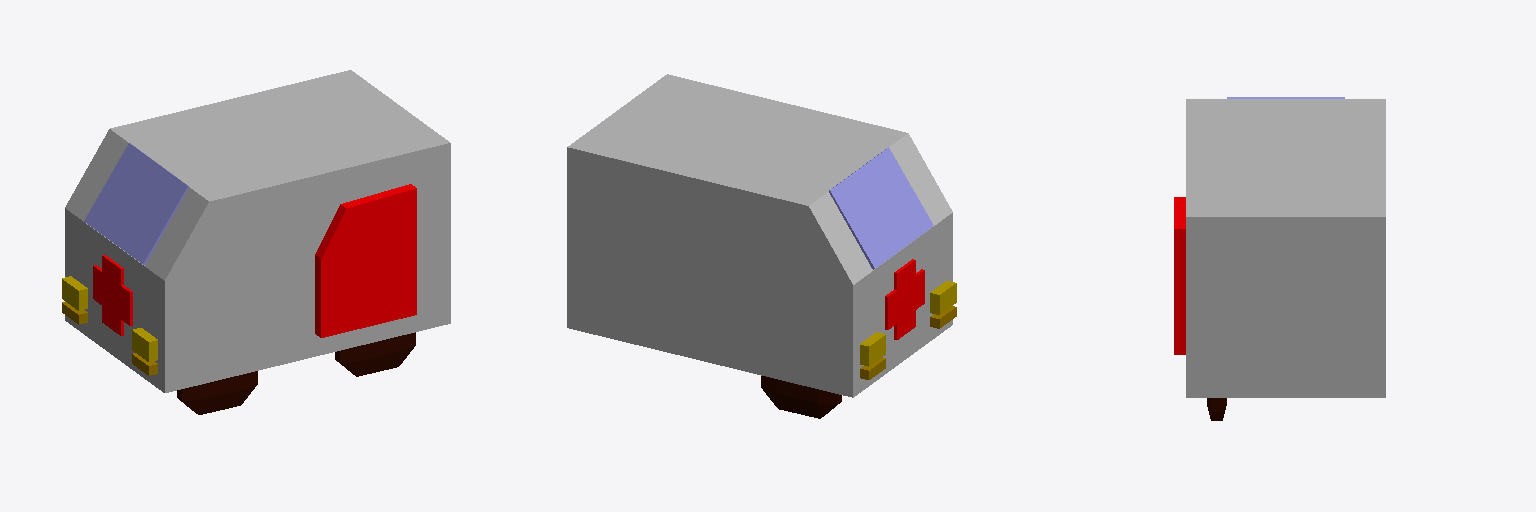
The model's file is Ambulance.obj.
3 renders of one model, left to right at view 1: azimuth 30°, elevation 25°; view 2: azimuth 150°, elevation 25°; view 3: azimuth 270°, elevation 25°, orthographic.
Visible parts, largest first — view 1: Cube_Cube.001, RightDoor_Cube.011, Cube.001_Cube.002, RightBackWhell_Cube.014, RightFrontWheel_Cube.012, Cube.002_Cube.003, Cube.003_Cube.004, LeftFlash_Cube.002, RightFlash_Cube.004; view 2: Cube_Cube.001, Cube.001_Cube.002, LeftFrontWheel_Cube.013, Cube.002_Cube.003, Cube.003_Cube.004, RightFlash_Cube.004, LeftFlash_Cube.002; view 3: Cube_Cube.001, RightDoor_Cube.011.
Boxes of the visible parts, x1=… form: Cube_Cube.001: x1=65, y1=70, x2=450, y2=392; RightDoor_Cube.011: x1=315, y1=184, x2=416, y2=337; Cube.001_Cube.002: x1=84, y1=143, x2=188, y2=264; RightBackWhell_Cube.014: x1=335, y1=332, x2=415, y2=376; RightFrontWheel_Cube.012: x1=177, y1=371, x2=257, y2=414; Cube.002_Cube.003: x1=102, y1=255, x2=123, y2=335; Cube.003_Cube.004: x1=93, y1=265, x2=132, y2=325; LeftFlash_Cube.002: x1=62, y1=276, x2=87, y2=310; RightFlash_Cube.004: x1=132, y1=328, x2=157, y2=361; Cube_Cube.001: x1=567, y1=74, x2=952, y2=397; Cube.001_Cube.002: x1=829, y1=147, x2=933, y2=269; LeftFrontWheel_Cube.013: x1=761, y1=376, x2=841, y2=418; Cube.002_Cube.003: x1=894, y1=259, x2=915, y2=339; Cube.003_Cube.004: x1=885, y1=269, x2=924, y2=329; RightFlash_Cube.004: x1=930, y1=281, x2=956, y2=314; LeftFlash_Cube.002: x1=860, y1=332, x2=885, y2=366; Cube_Cube.001: x1=1186, y1=99, x2=1385, y2=397; RightDoor_Cube.011: x1=1174, y1=197, x2=1185, y2=354.
Bounding box in the file's own units: 3.45 × 2.51 × 2.14.